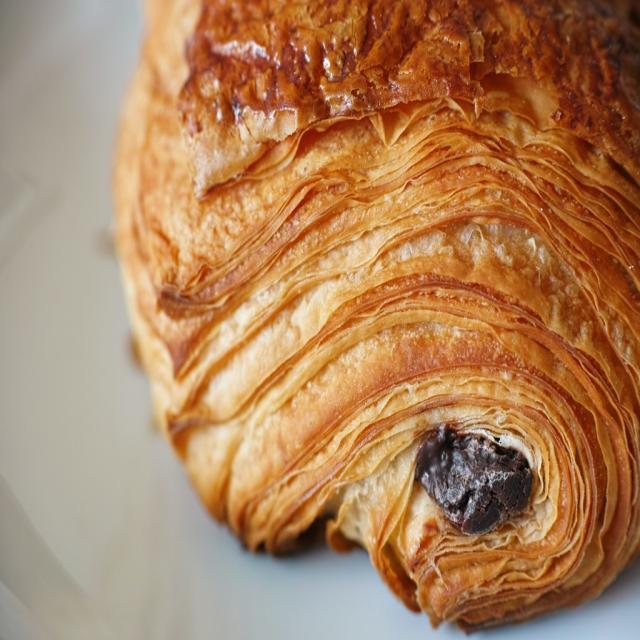Croissant: (122, 21, 639, 640)
